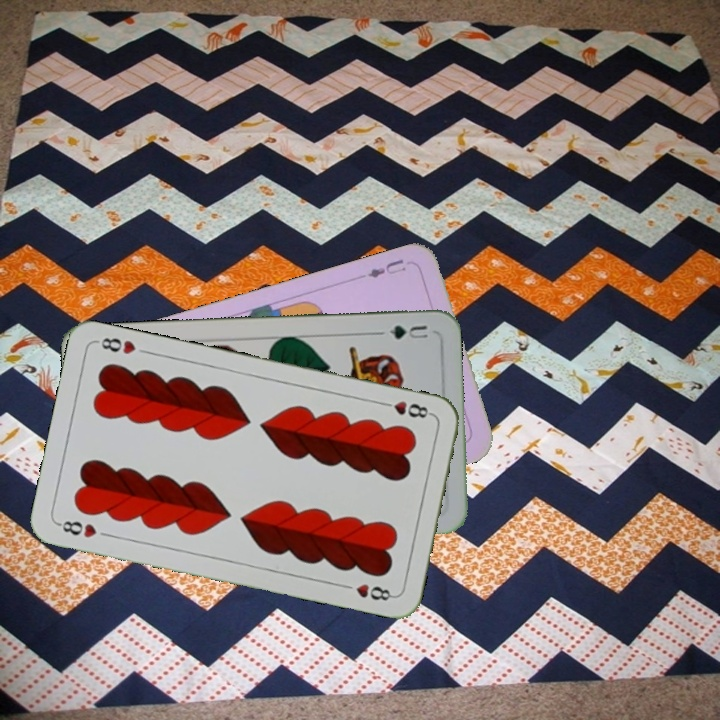EU: (363, 255, 409, 281)
GU: (375, 321, 431, 342)
H8: (376, 397, 435, 421), (54, 516, 100, 541)
